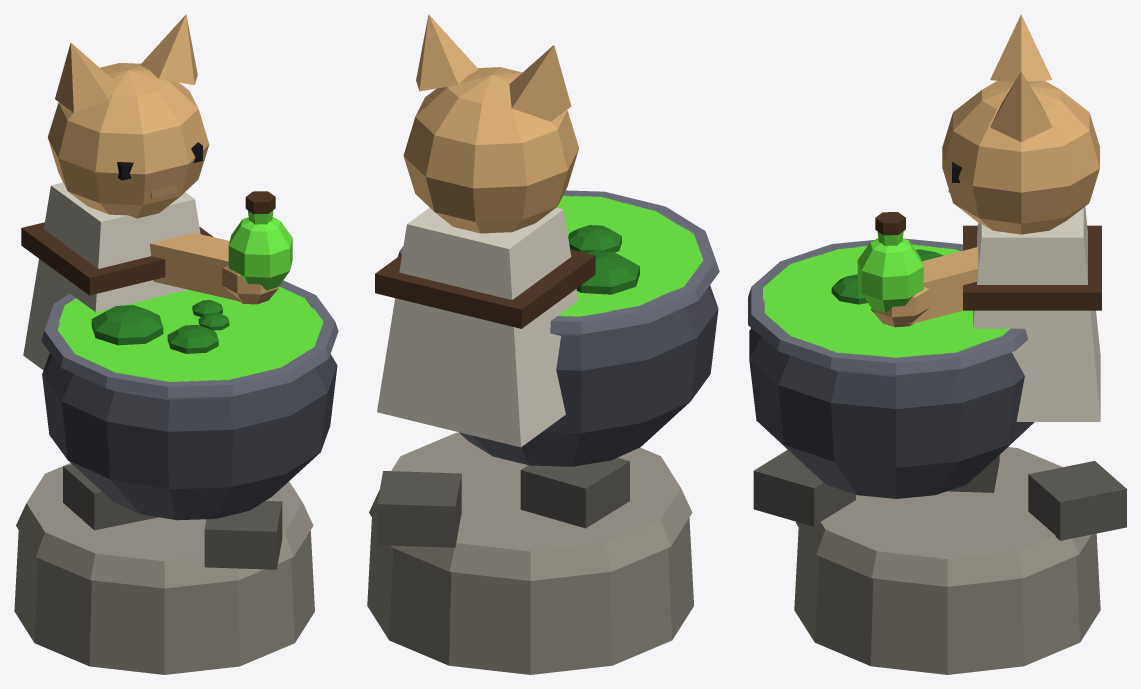
File: tower_poison_l1.glb
3 renders of one model, left to right at view 1: azimuth 30°, elevation 25°; view 2: azimuth 150°, elevation 25°; view 3: azimuth 270°, elevation 25°, orthographic. The views are drawn at different scales.
Parts seen in each view (by area): view 1: Body, Turret; view 2: Body; view 3: Body, Turret.
Boxes of the visible parts, <box> form: Body: <box>14,14,338,674</box>; Turret: <box>150,191,292,304</box>; Body: <box>367,14,719,674</box>; Body: <box>748,14,1126,674</box>; Turret: <box>857,212,978,327</box>.
Bounding box in the file's own units: 0.54 × 1.1 × 0.6673.
